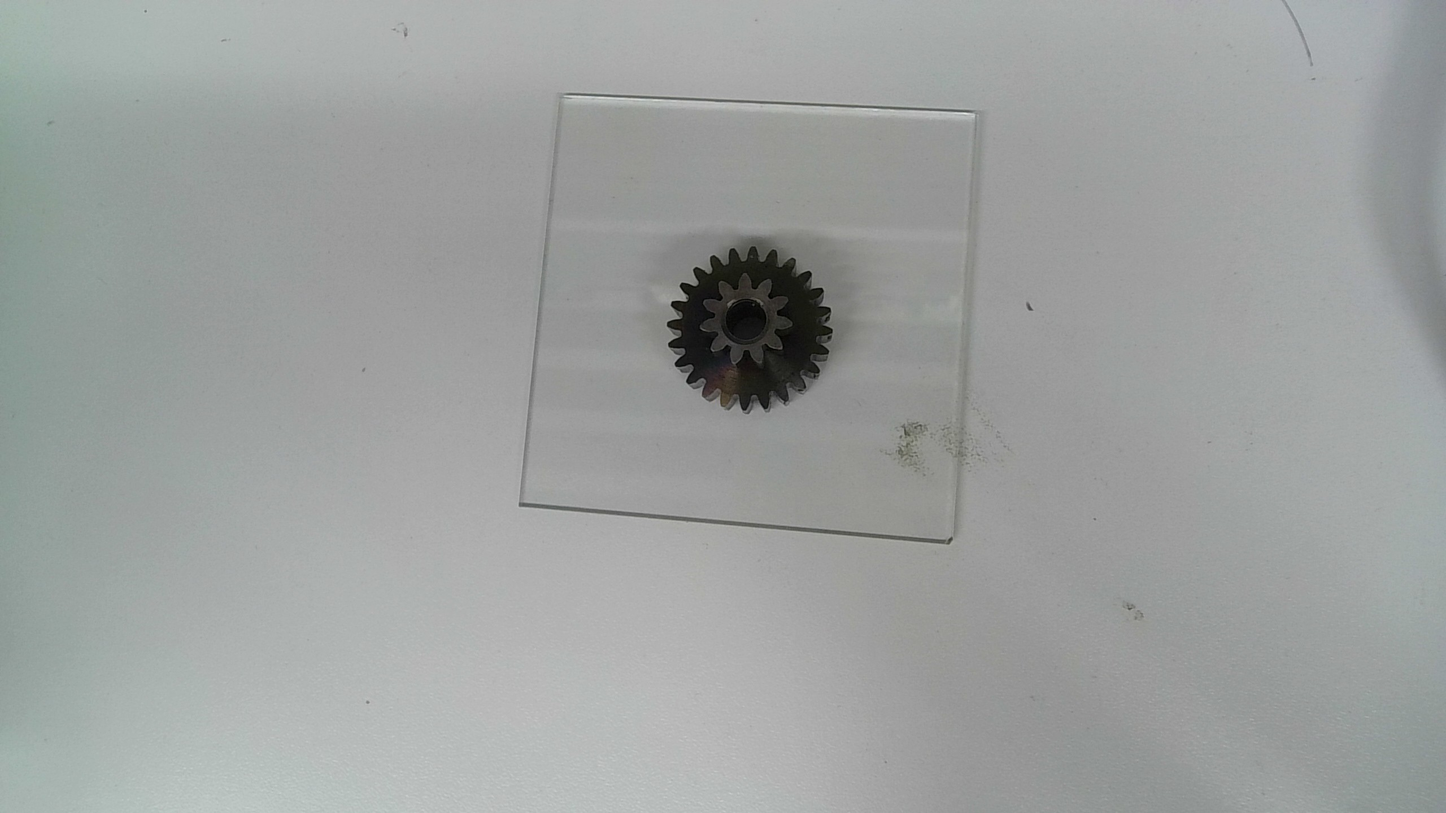gear: (663, 242, 834, 418)
